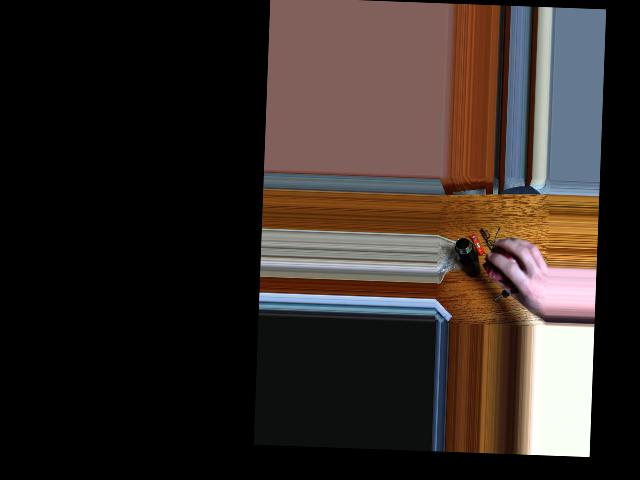onion: (488, 243, 522, 287)
